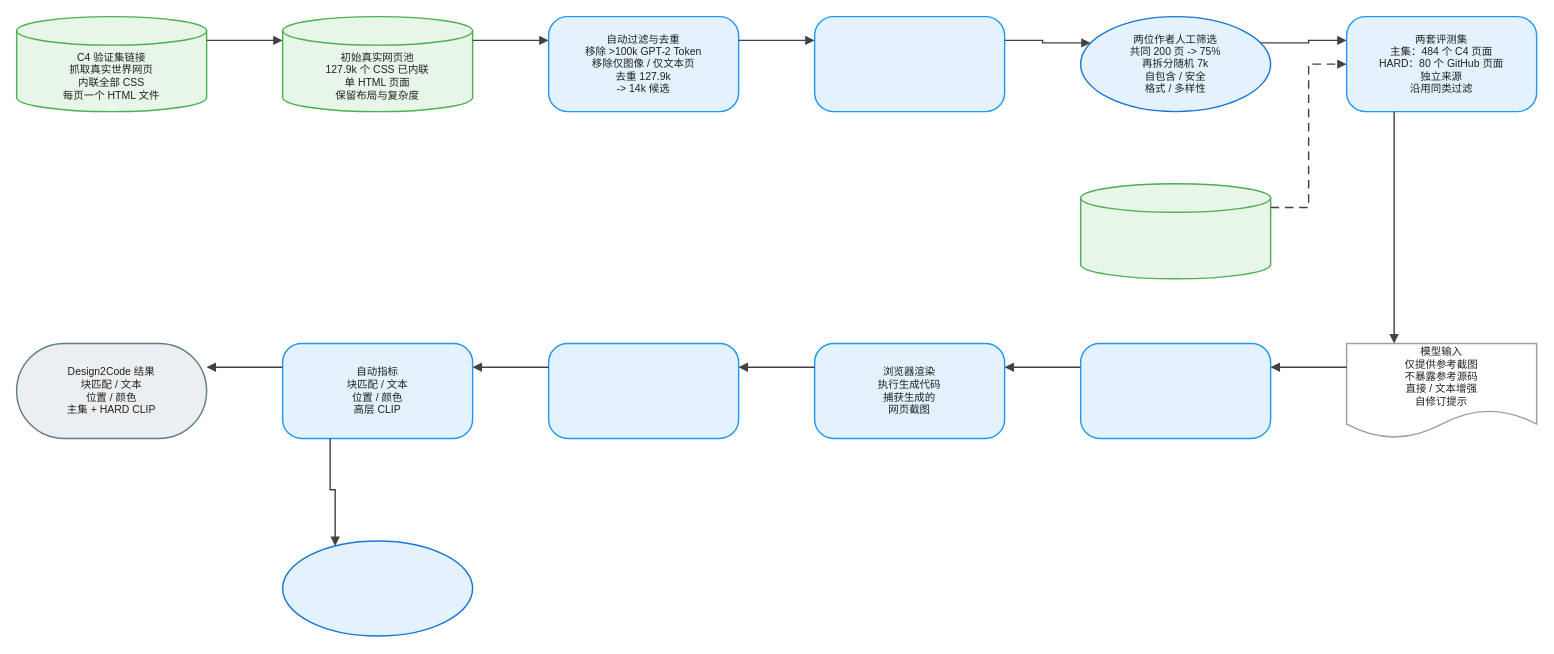
Image size: 1554x654. Some labels were removed from this diagram. The centre of each missing label's shape, as x and y in pixels:
"HARD GitHub Pages 80 个页面 许可白名单仓库 最终筛选至 80 页 方法未披露" goes at (1175,231).
"可评测页面 移除外部依赖 多媒体内容 替换为占位符" goes at (909,63).
"多模态生成 生成 HTML + CSS 参考源码 不暴露" goes at (1175,390).
"独立人工验证 100 样本 x 5 人 多数票 435 胜负对；50/50 拆分 测试准确率 79.9%" goes at (377,588).
"页面元素匹配 文本块与非文本块 按文本相似度 做匈牙利匹配" goes at (643,390).
